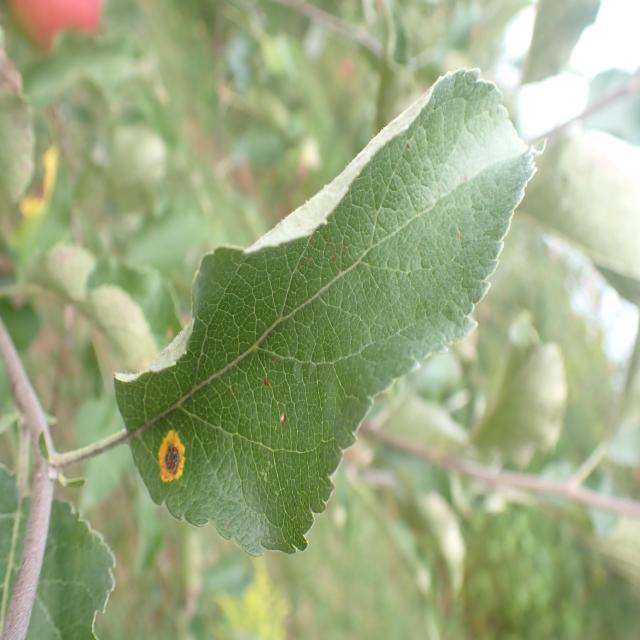Rust: (148, 422, 198, 512)
